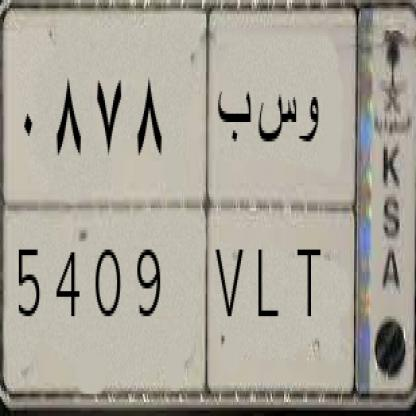english: (4, 208, 359, 384)
